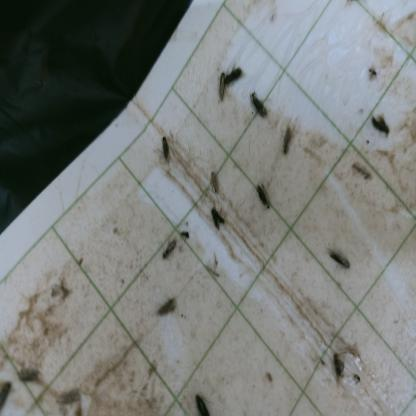prays_oleae: (328, 352, 356, 386), (157, 289, 181, 326), (326, 245, 356, 274), (371, 108, 395, 143), (247, 91, 269, 124), (279, 125, 298, 163), (190, 386, 214, 412), (207, 204, 228, 233), (159, 235, 182, 261), (157, 131, 173, 168), (254, 183, 271, 217), (217, 66, 226, 104), (207, 170, 221, 191)
